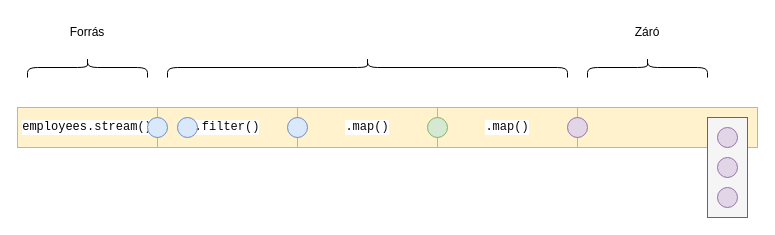
The diagram is 775 pixels wide and 235 high, and some of its shapes have lost their labels. The shapes that lost their labels are listed below. From the top down, each one's centre as x and y in pixels, then its label:
At point 367,67: "Közbülső".
At point 667,127: ".collect()".
